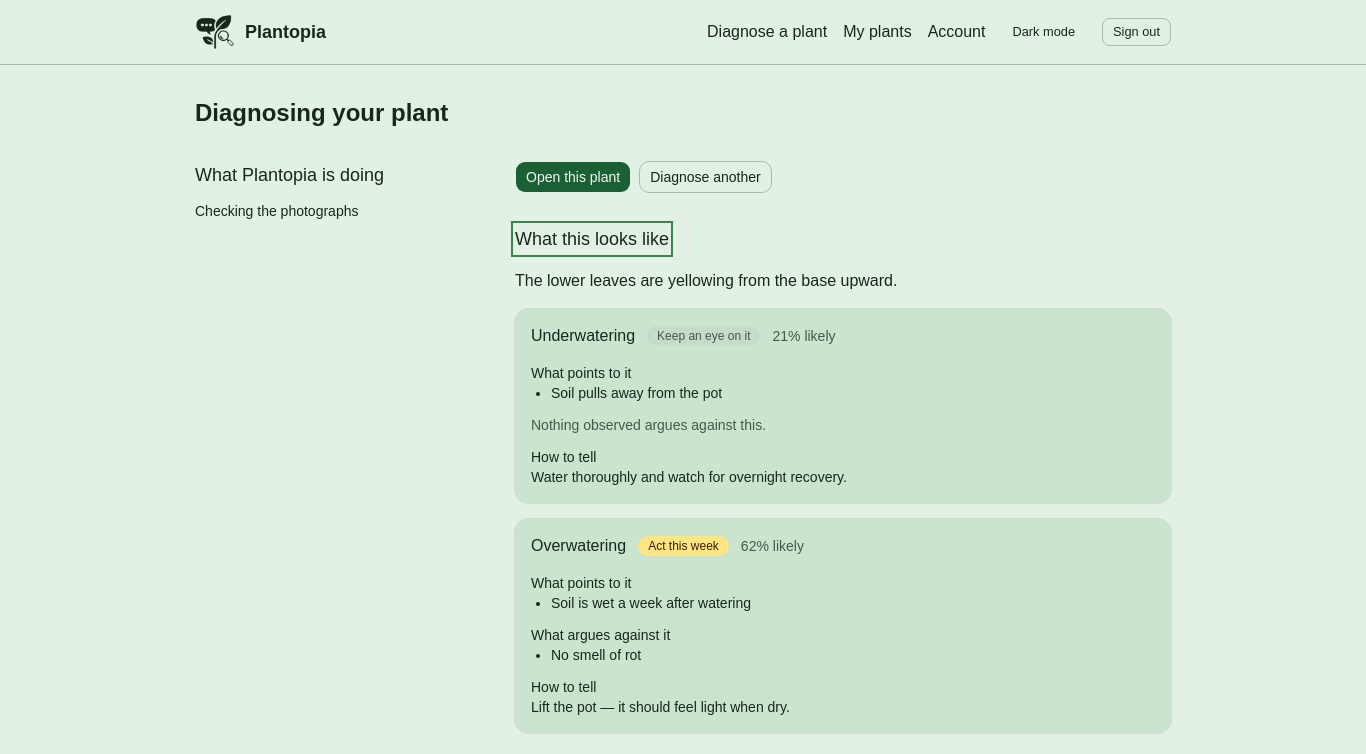
a run that finished after being resumed › is not resumed again once it actually has, even moments later
Expected: the text "The lower leaves are yellowing from the base upward." is shown, x1=515 y1=272 x2=897 y2=289
Click the link "My plants".
click(877, 32)  # box x1=843 y1=20 x2=912 y2=44
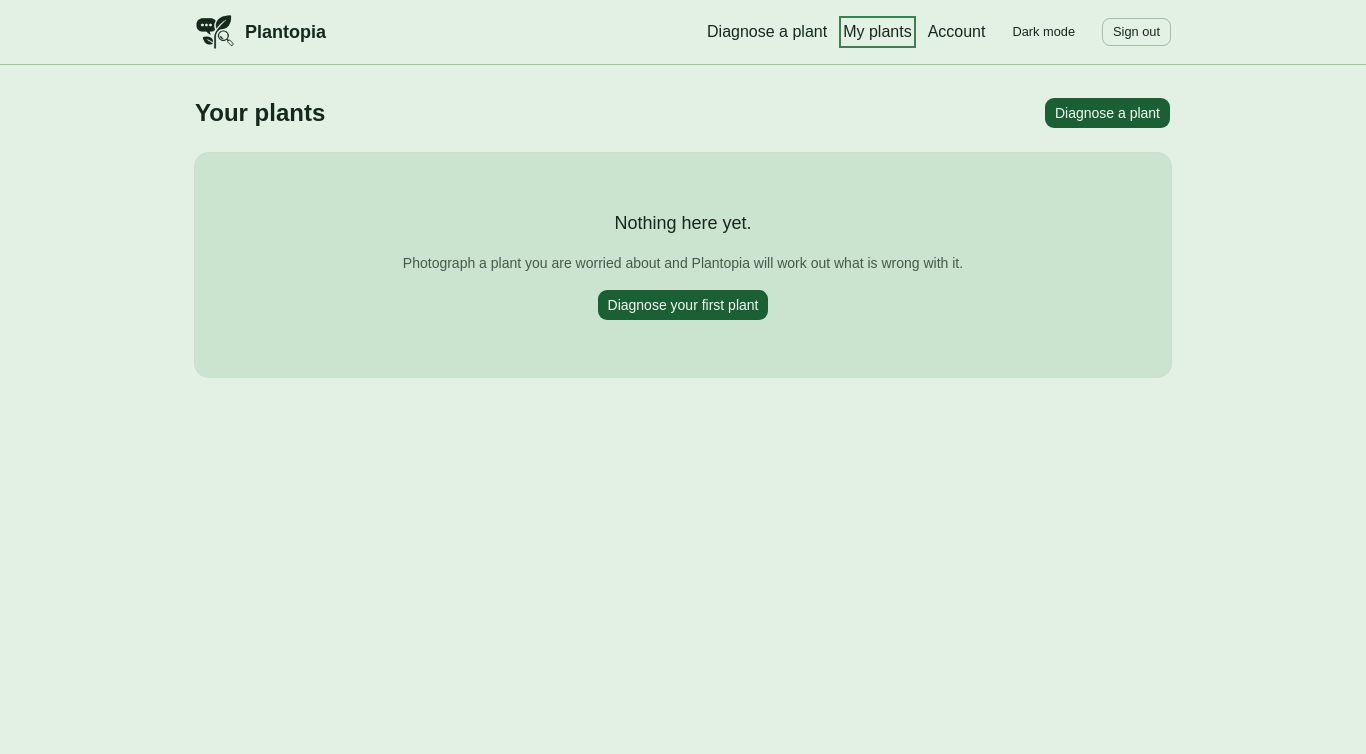
Click the link "Diagnose a plant" next to "My plants".
click(767, 32)  # box x1=707 y1=20 x2=827 y2=44
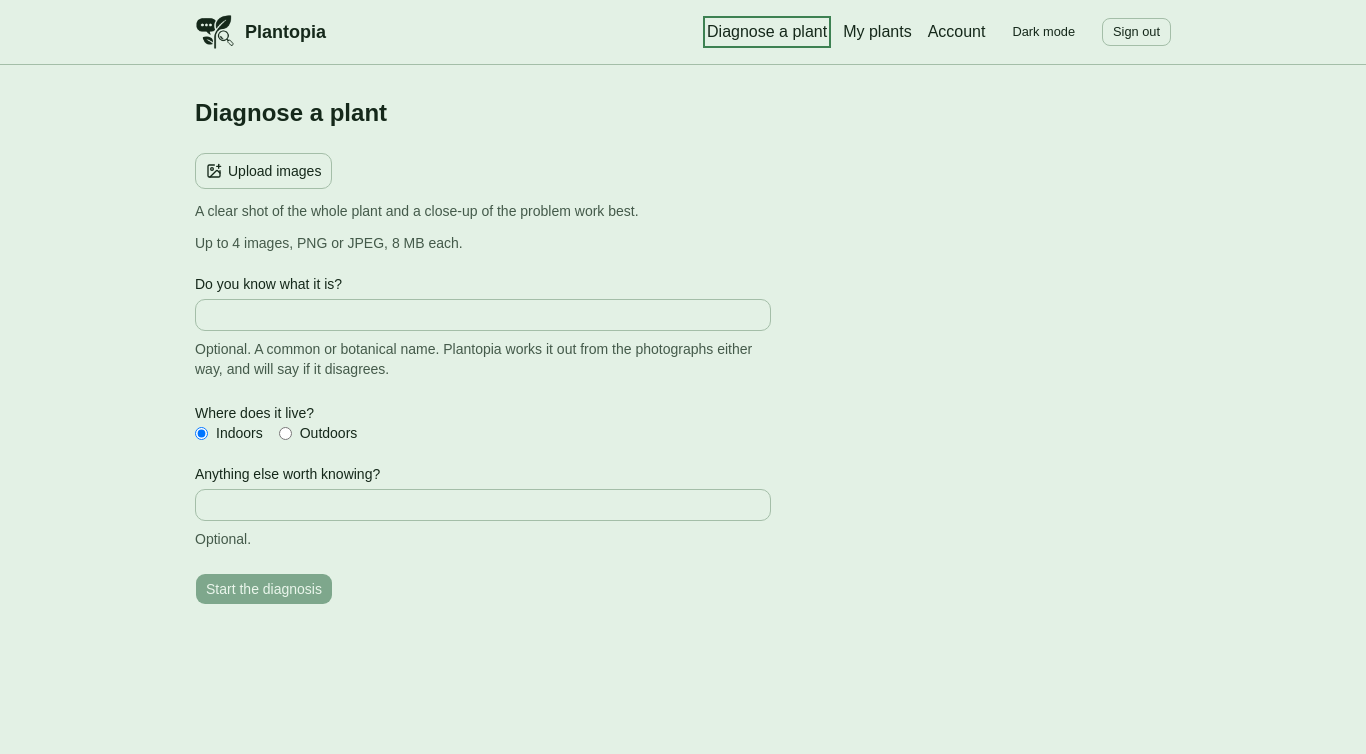
Expected: the button "Start the diagnosis" is shown, x1=195 y1=573 x2=333 y2=605
